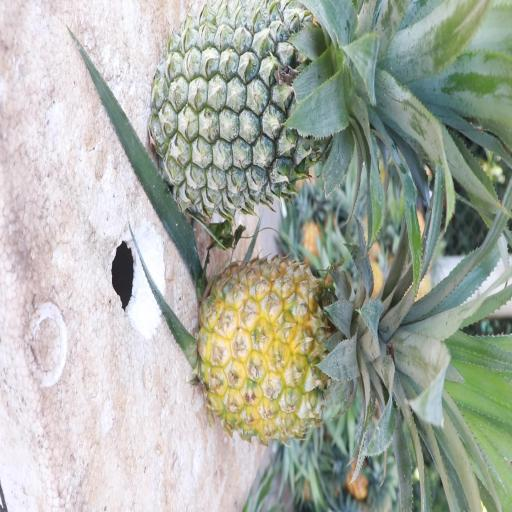Pineapple - v8 v1: (202, 259, 464, 470)
